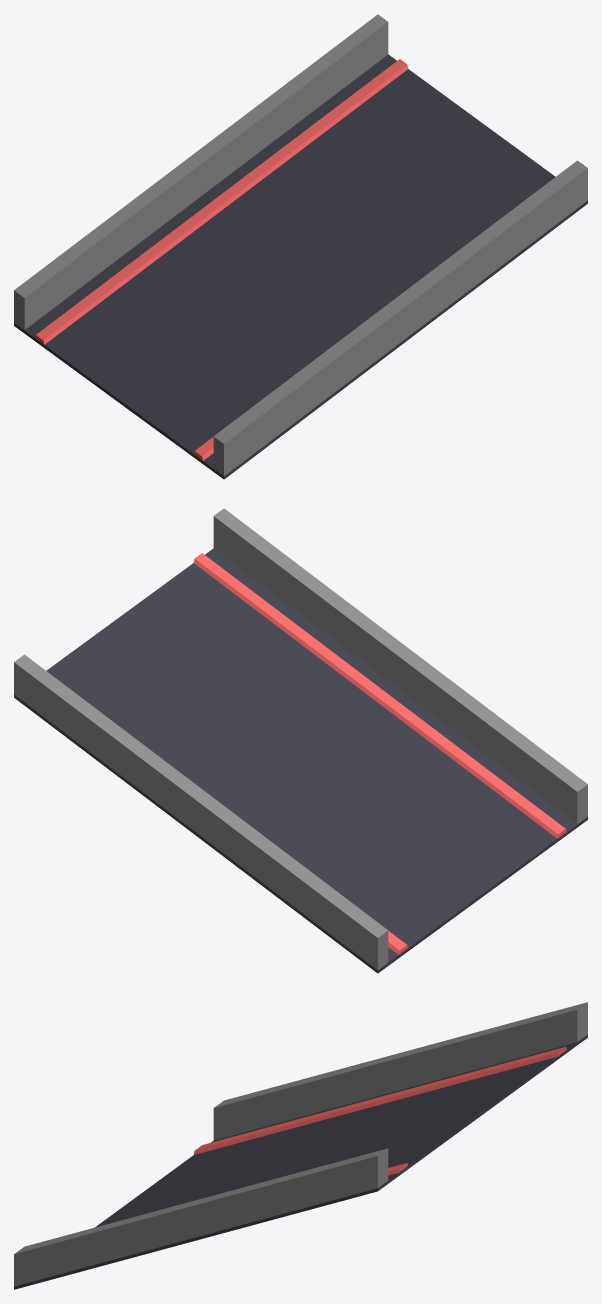
File: kartkids_base_trk_200_rmp_up_1x1_z0_to_z5.glb
3 views of the same model, one above another, from view 1: azimuth 30°, elevation 25°; view 2: azimuth 150°, elevation 25°; view 3: azimuth 330°, elevation 25° (orthographic).
Visible parts, largest first — view 1: kartkids_base_trk_010_rd_straight_1x1.067, kartkids_base_trk_020_trn_90_l_1x1.063; view 2: kartkids_base_trk_010_rd_straight_1x1.067, kartkids_base_trk_020_trn_90_l_1x1.063; view 3: kartkids_base_trk_020_trn_90_l_1x1.063, kartkids_base_trk_010_rd_straight_1x1.067.
Part boxes in pixels (<box>): kartkids_base_trk_010_rd_straight_1x1.067: <box>14,54,587,479</box>; kartkids_base_trk_020_trn_90_l_1x1.063: <box>14,14,587,475</box>; kartkids_base_trk_010_rd_straight_1x1.067: <box>14,548,587,973</box>; kartkids_base_trk_020_trn_90_l_1x1.063: <box>14,508,587,969</box>; kartkids_base_trk_020_trn_90_l_1x1.063: <box>14,1002,587,1286</box>; kartkids_base_trk_010_rd_straight_1x1.067: <box>14,1034,587,1289</box>.
Bounding box in the file's own units: 10 × 5.85 × 10.
